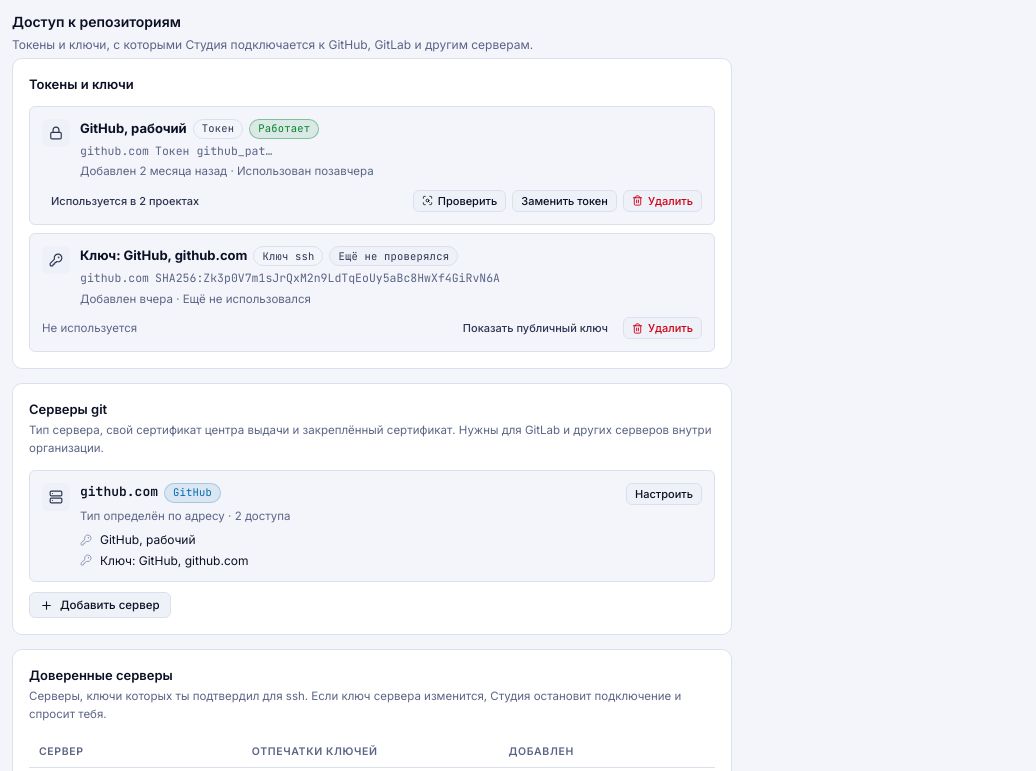
Scenario: раздел «Доступ к репозиториям» › токены и ключи › публичный ключ показывается по кнопке
Click the button "Показать публичный ключ" at (535, 328), box [454,317,617,339]
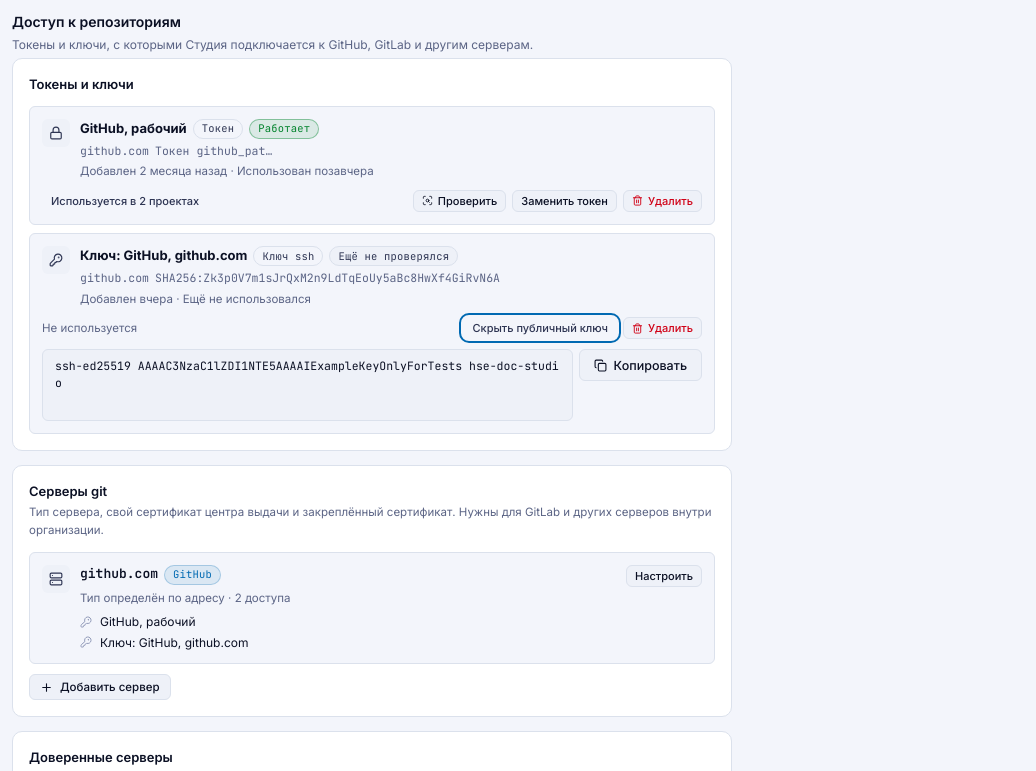
Expected: the text box named "Публичный ключ" holds "ssh-ed25519 AAAAC3NzaC1lZDI1NTE5AAAAIExampleKeyOnlyForTests hse-doc-studio", [42,349,573,421]
